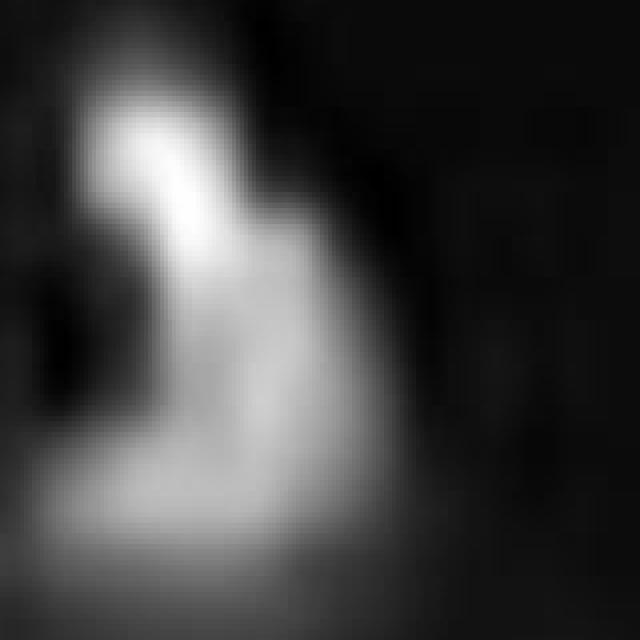person: (4, 40, 408, 585)
